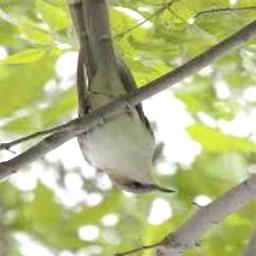Cuckoo: (65, 0, 175, 195)
